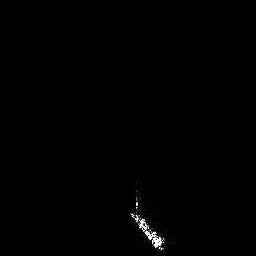ship: (126, 207, 170, 253)
